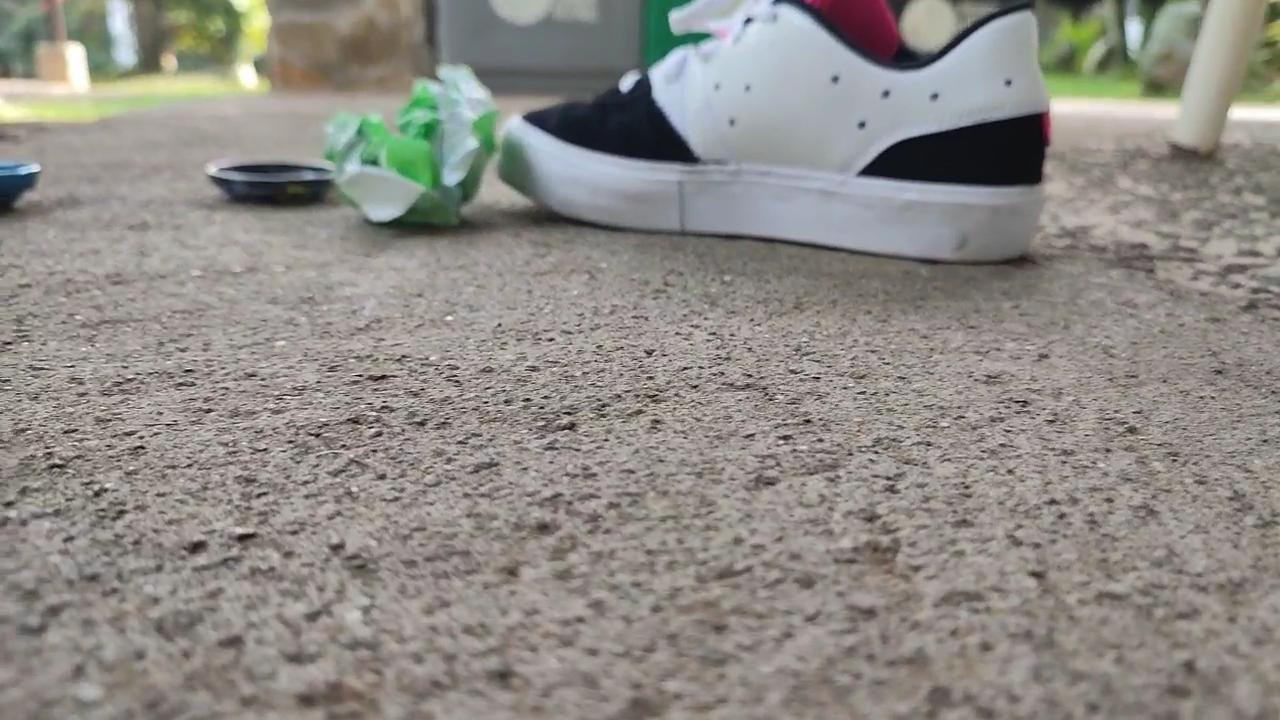Paper: (301, 38, 500, 245)
